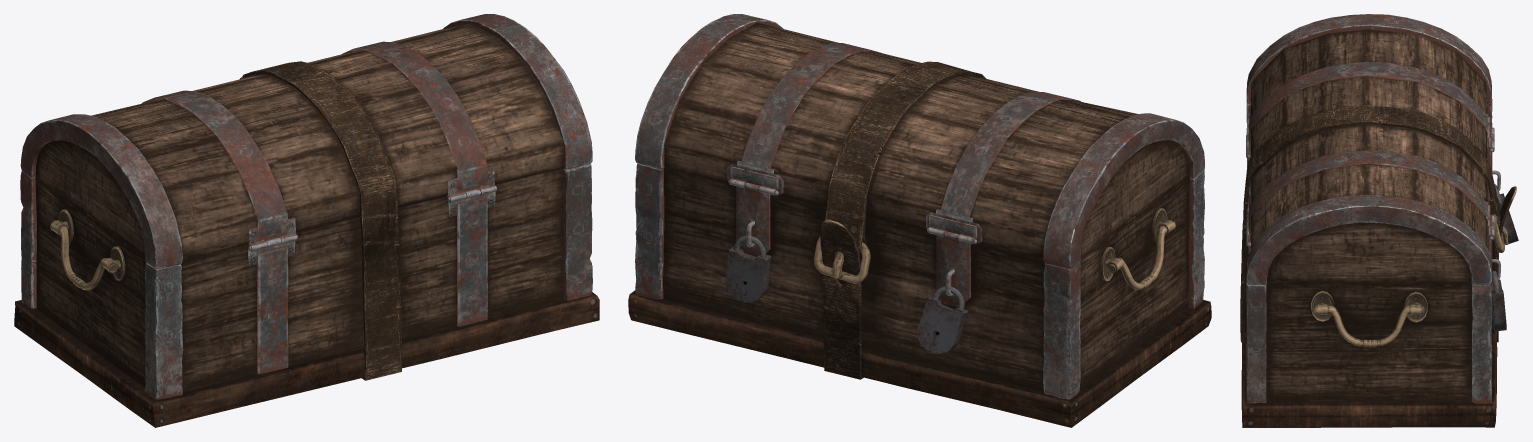
Rendered from chest.obj.
The picture shows the model from 3 angles, left to right: view 1: azimuth 30°, elevation 25°; view 2: azimuth 150°, elevation 25°; view 3: azimuth 270°, elevation 25°; orthographic projection. The views are drawn at different scales.
Parts seen in each view (by area): view 1: g Treasure_Chest_Lowpoly3:polySurface49 Treasure_Chest_Lowpoly3:; view 2: g Treasure_Chest_Lowpoly3:polySurface49 Treasure_Chest_Lowpoly3:, g Treasure_Chest_Lowpoly3:Lucchetto Treasure_Chest_Lowpoly3:grou; view 3: g Treasure_Chest_Lowpoly3:polySurface49 Treasure_Chest_Lowpoly3:, g Treasure_Chest_Lowpoly3:Lucchetto Treasure_Chest_Lowpoly3:grou.
Part boxes in pixels (x1=…): g Treasure_Chest_Lowpoly3:polySurface49 Treasure_Chest_Lowpoly3:: x1=14, y1=14, x2=599, y2=427; g Treasure_Chest_Lowpoly3:polySurface49 Treasure_Chest_Lowpoly3:: x1=628, y1=14, x2=1211, y2=427; g Treasure_Chest_Lowpoly3:Lucchetto Treasure_Chest_Lowpoly3:grou: x1=917, y1=286, x2=968, y2=353; g Treasure_Chest_Lowpoly3:polySurface49 Treasure_Chest_Lowpoly3:: x1=1240, y1=14, x2=1516, y2=427; g Treasure_Chest_Lowpoly3:Lucchetto Treasure_Chest_Lowpoly3:grou: x1=1494, y1=184, x2=1518, y2=243.
Size of the model in its own units: 2 by 1.03 by 1.15.
